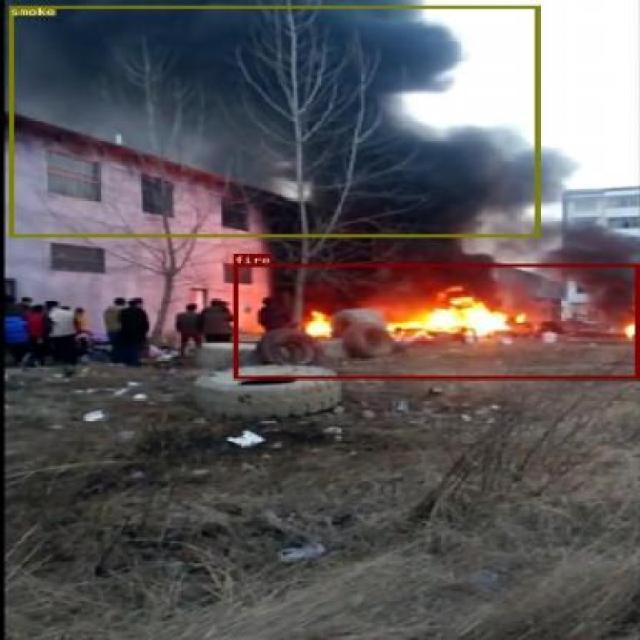CIV_Plane: (232, 263, 638, 379)
Fire: (232, 263, 638, 379)
Smoke: (5, 4, 530, 237)
